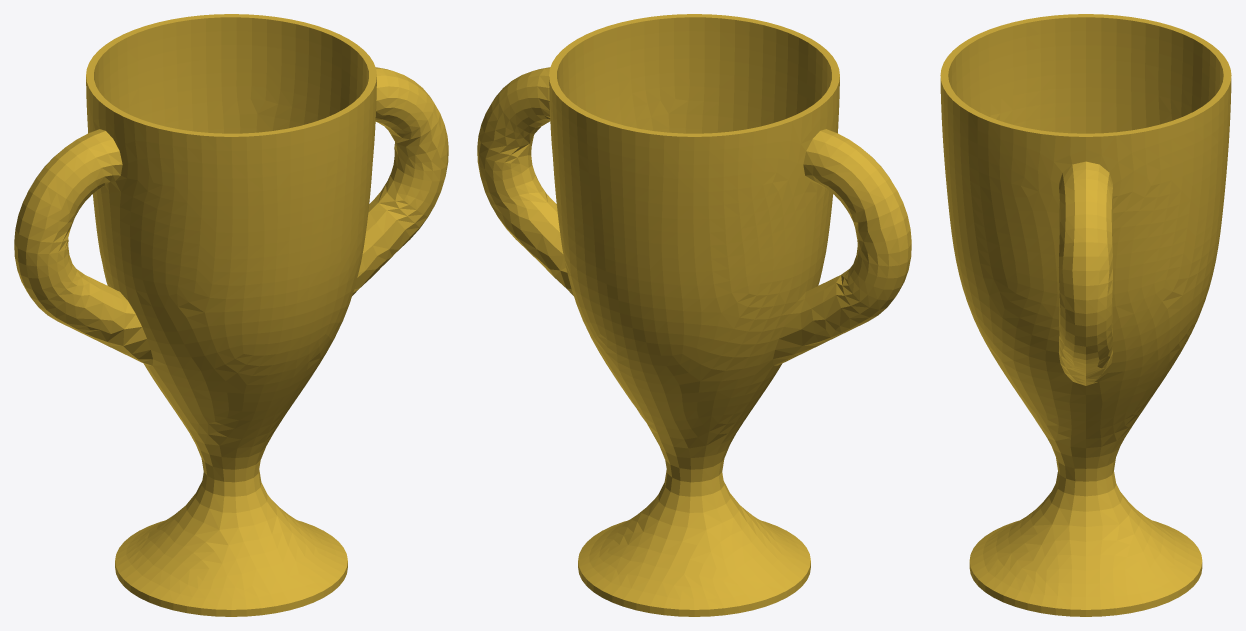
File: trophy.glb
The picture shows the model from 3 angles, left to right: view 1: azimuth 30°, elevation 25°; view 2: azimuth 150°, elevation 25°; view 3: azimuth 270°, elevation 25°; orthographic projection.
Visible parts, largest first — view 1: empty_2; view 2: empty_2; view 3: empty_2.
Part boxes in pixels (x1,y1,x2,y2): empty_2: [14, 14, 448, 616]; empty_2: [477, 14, 911, 616]; empty_2: [940, 14, 1231, 616].
Bounding box in the file's own units: 0.0636 × 0.07 × 0.0375.
